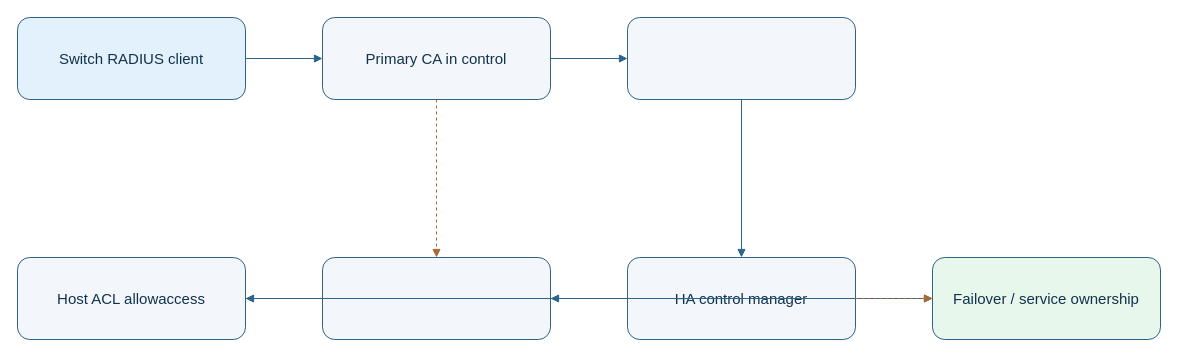
This 1178x357 diagram has some shape labels left out. The box of each missing label's shape, as (x1, y1, x2, y2) in pixels:
RADIUS + agent listeners: (626, 16, 856, 100)
Secondary not in control: (322, 256, 550, 340)
